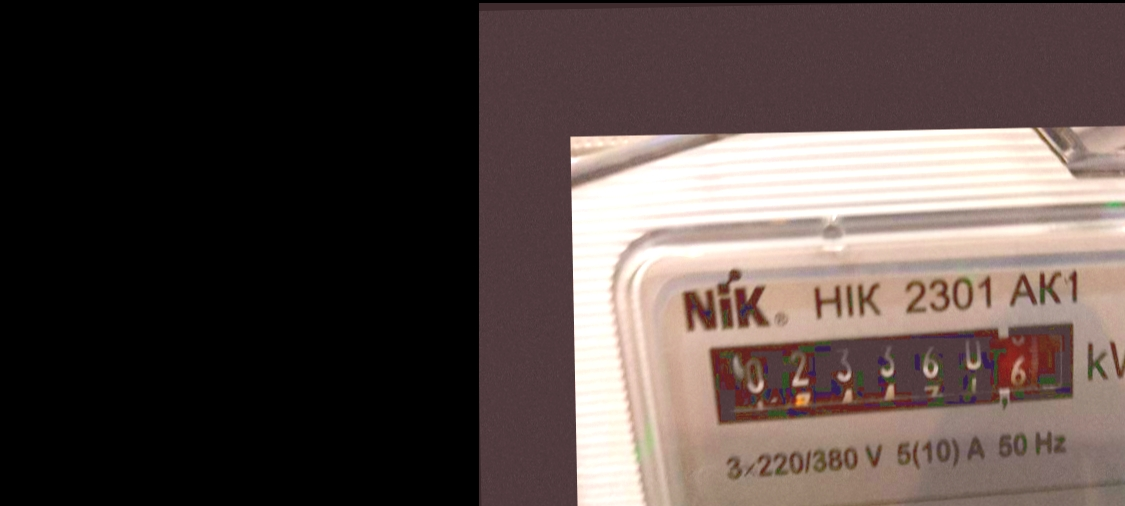0: (742, 354, 767, 397), (961, 335, 985, 372)
2: (785, 347, 812, 388)
3: (832, 344, 854, 385), (874, 342, 897, 380)
6: (916, 341, 943, 382), (1009, 353, 1030, 389)
screen: (687, 309, 1090, 435)
